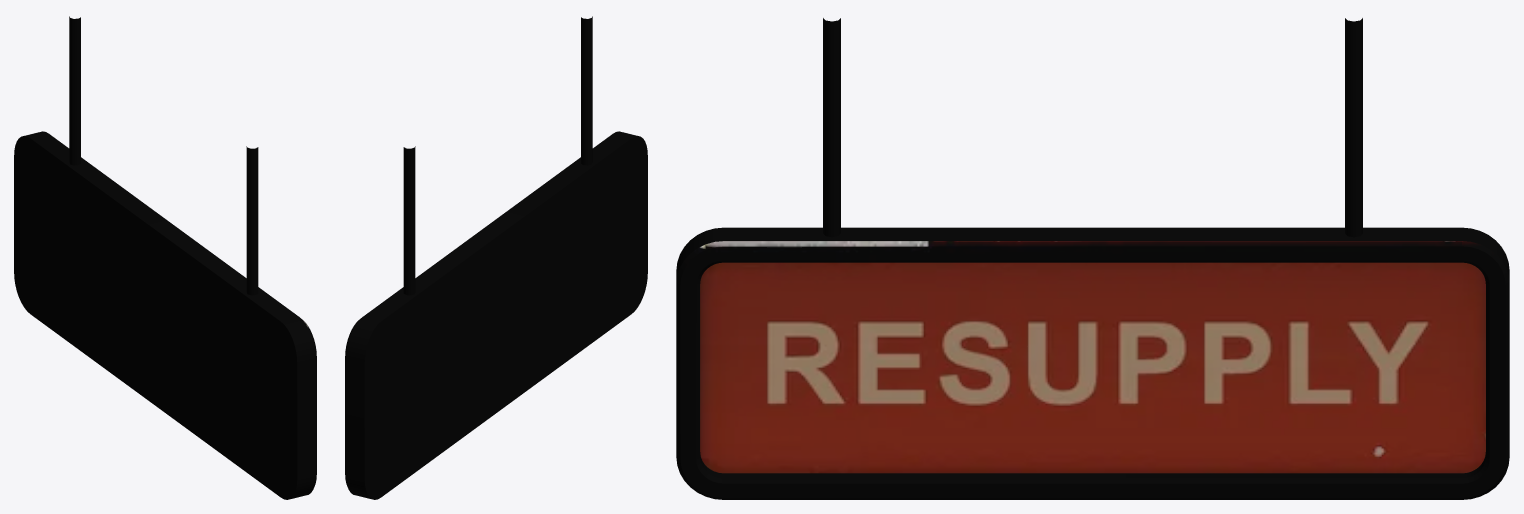
3 renders of one model, left to right at view 1: azimuth 30°, elevation 25°; view 2: azimuth 150°, elevation 25°; view 3: azimuth 270°, elevation 25°, orthographic. The views are drawn at different scales.
Parts seen in each view (by area): view 1: body0_model0_lod0_mesh0; view 2: body0_model0_lod0_mesh0; view 3: body0_model0_lod0_mesh0.
Part boxes in pixels (left/top/right/bottom): body0_model0_lod0_mesh0: left=14, top=16, right=316, bottom=499; body0_model0_lod0_mesh0: left=345, top=16, right=647, bottom=499; body0_model0_lod0_mesh0: left=676, top=18, right=1509, bottom=499.
Size of the model in its own units: 3 by 44 by 70.
1 material, 1 textured.
